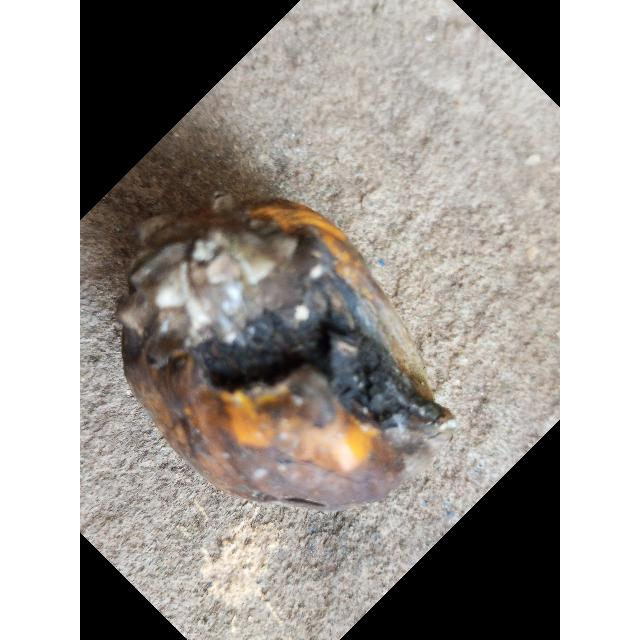damaged: (116, 192, 453, 512)
